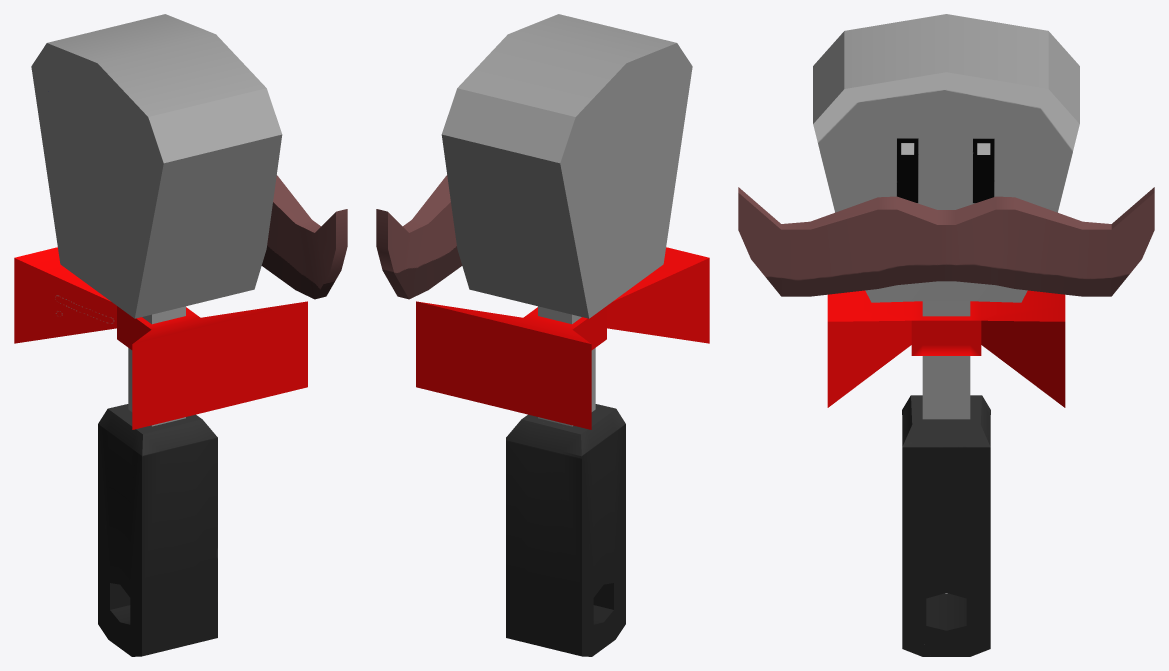
Rendered from Felipe_eli_rework_1 (2).fbx.
3 renders of one model, left to right at view 1: azimuth 30°, elevation 25°; view 2: azimuth 150°, elevation 25°; view 3: azimuth 270°, elevation 25°, orthographic.
Parts seen in each view (by area): view 1: Felipe; view 2: Felipe; view 3: Felipe.
Boxes of the visible parts, left/top/right/bottom form: Felipe: left=14, top=14, right=347, bottom=656; Felipe: left=376, top=14, right=709, bottom=656; Felipe: left=738, top=14, right=1154, bottom=656.
Size of the model in its own units: 201 by 645 by 410.
Materials: 1 (1 with a texture image).
